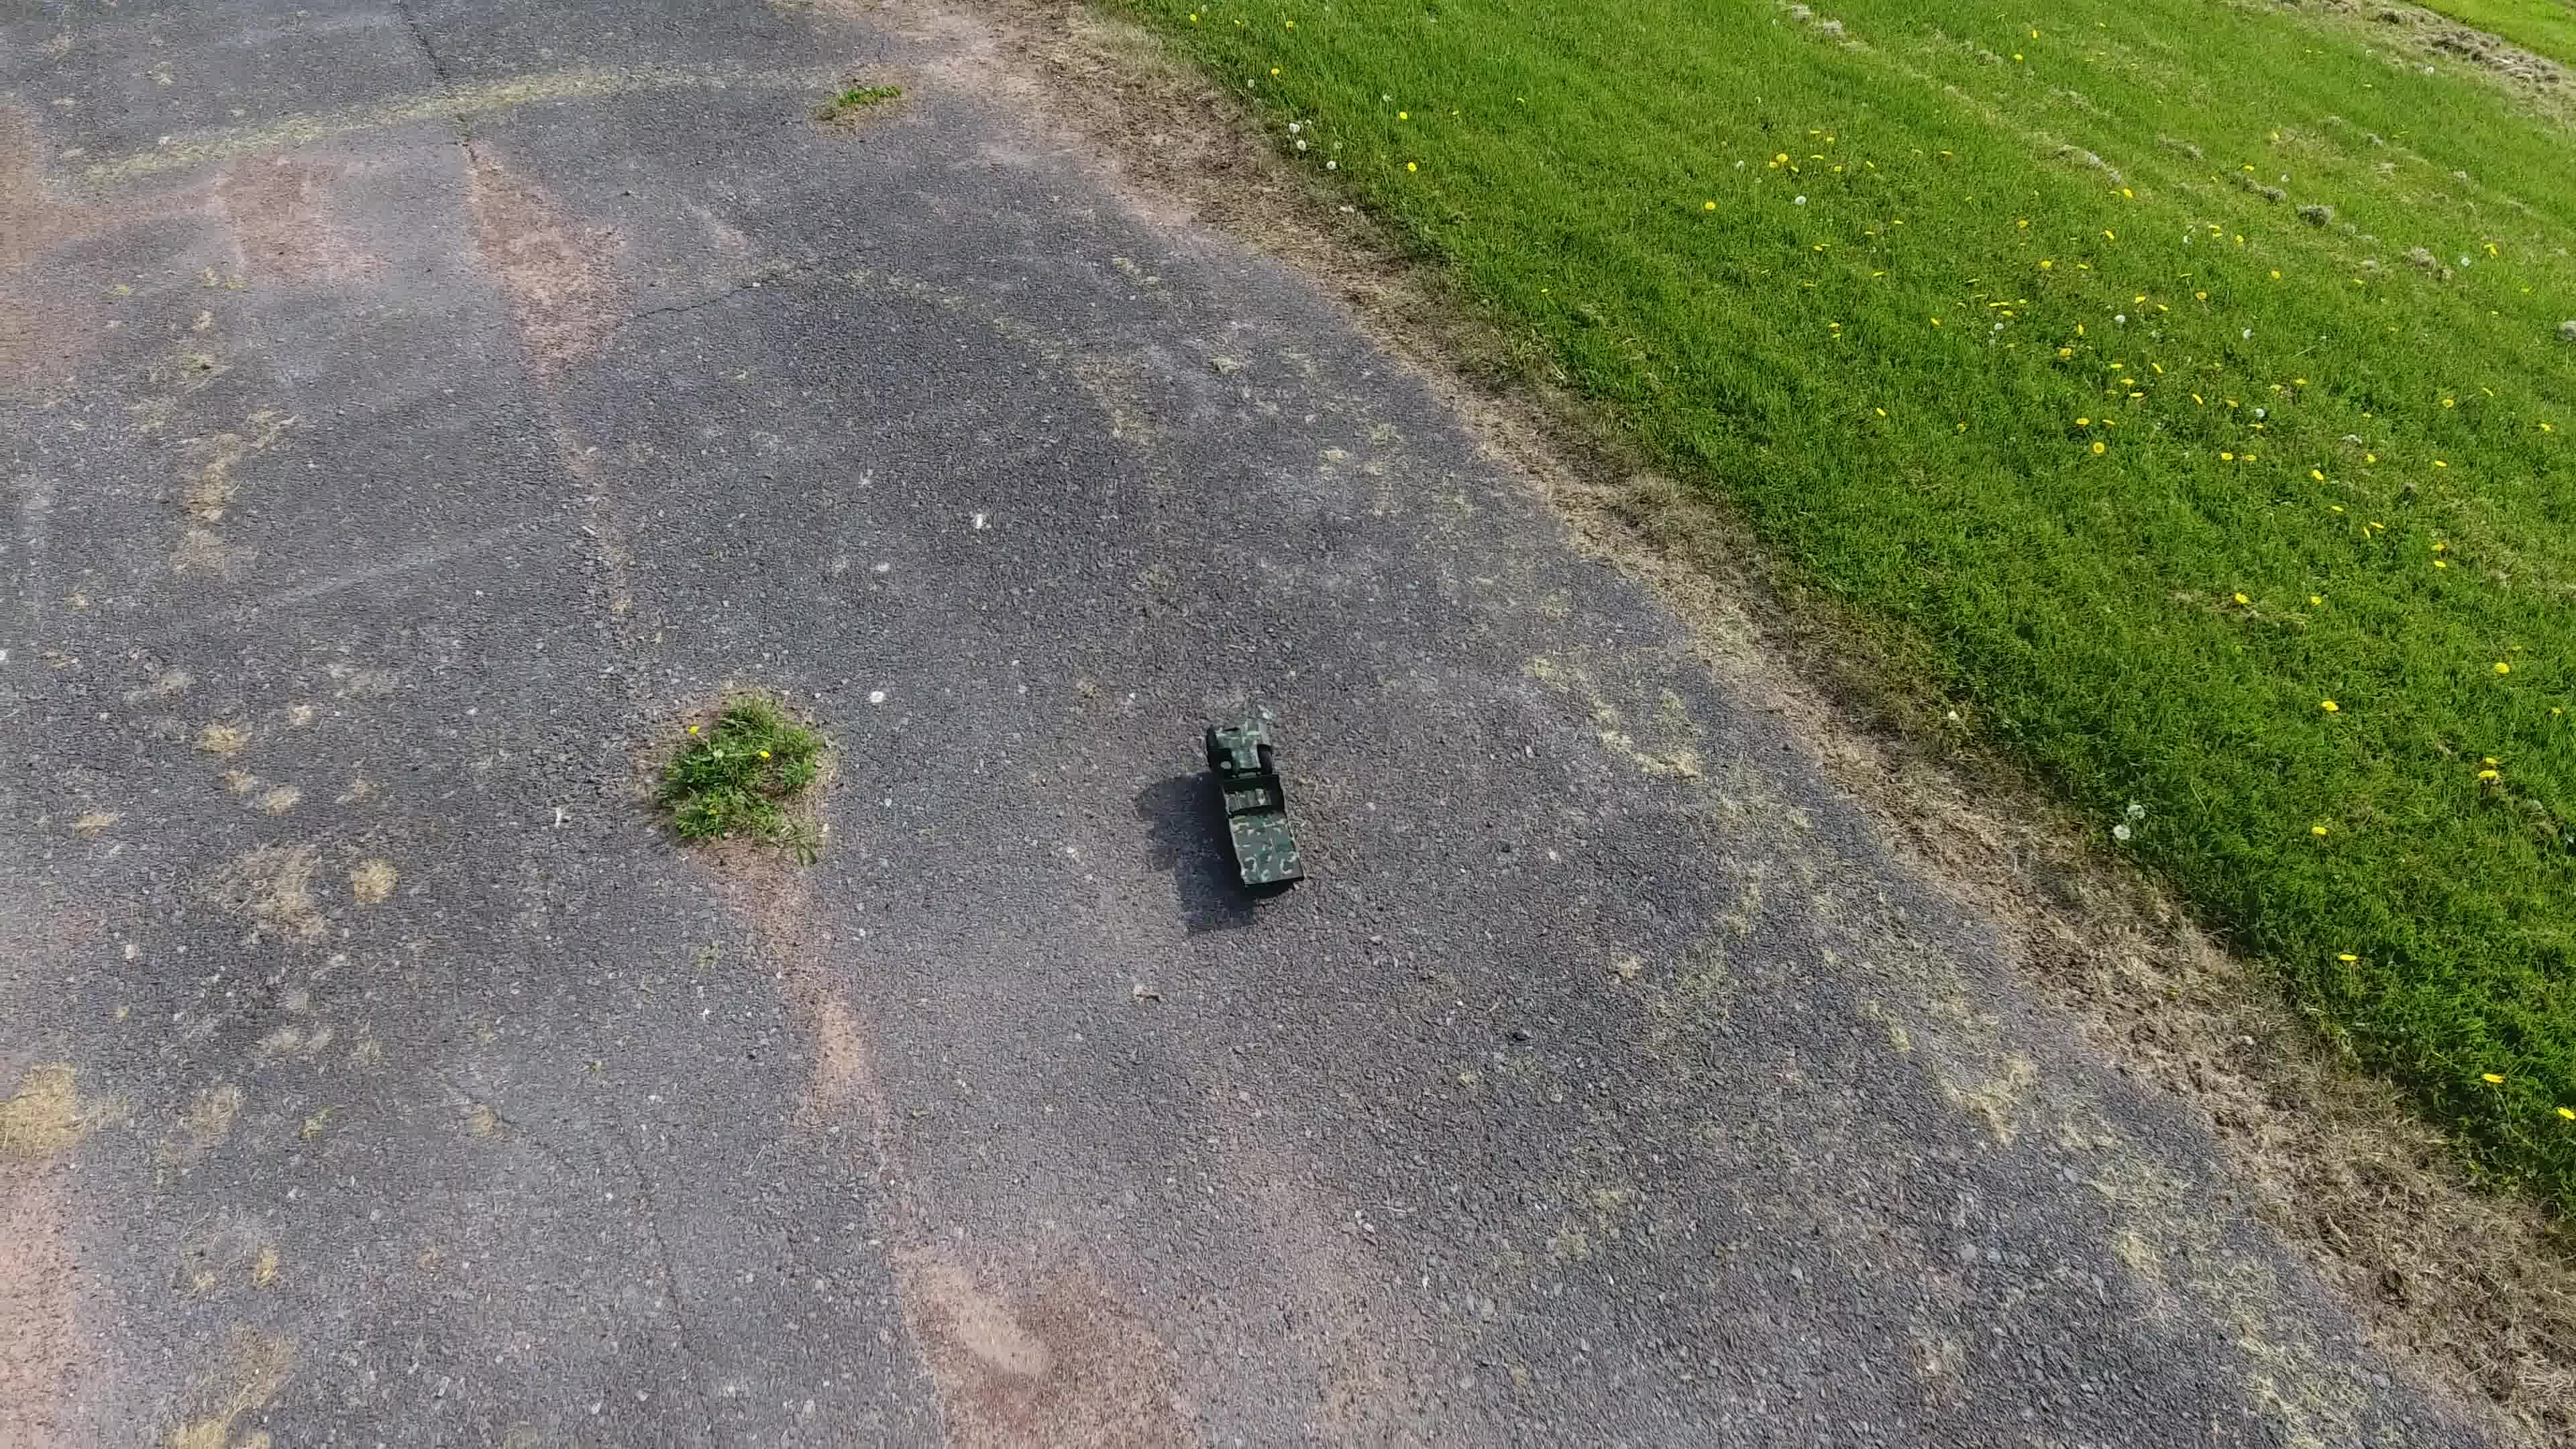transporter9_camo: (1200, 718, 1311, 892)
